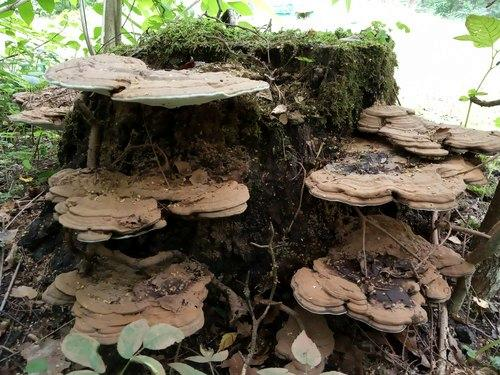Ganoderma - Fruit Body: (301, 101, 500, 212), (292, 217, 474, 332), (39, 252, 212, 349), (48, 164, 250, 247), (43, 52, 270, 110)
